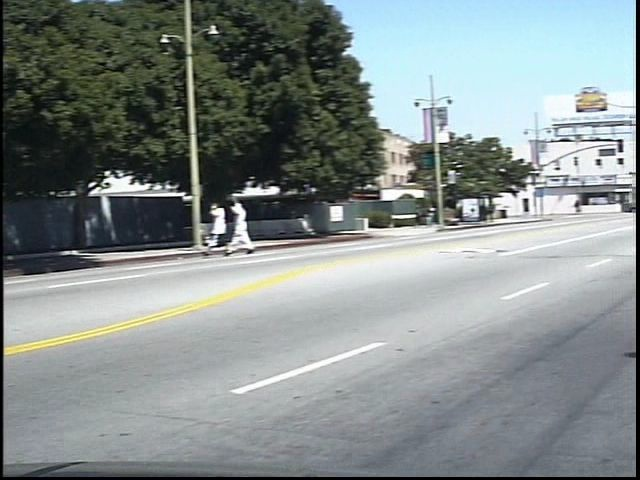person: (222, 195, 248, 257), (243, 197, 269, 257), (583, 193, 599, 221), (438, 203, 453, 229)
